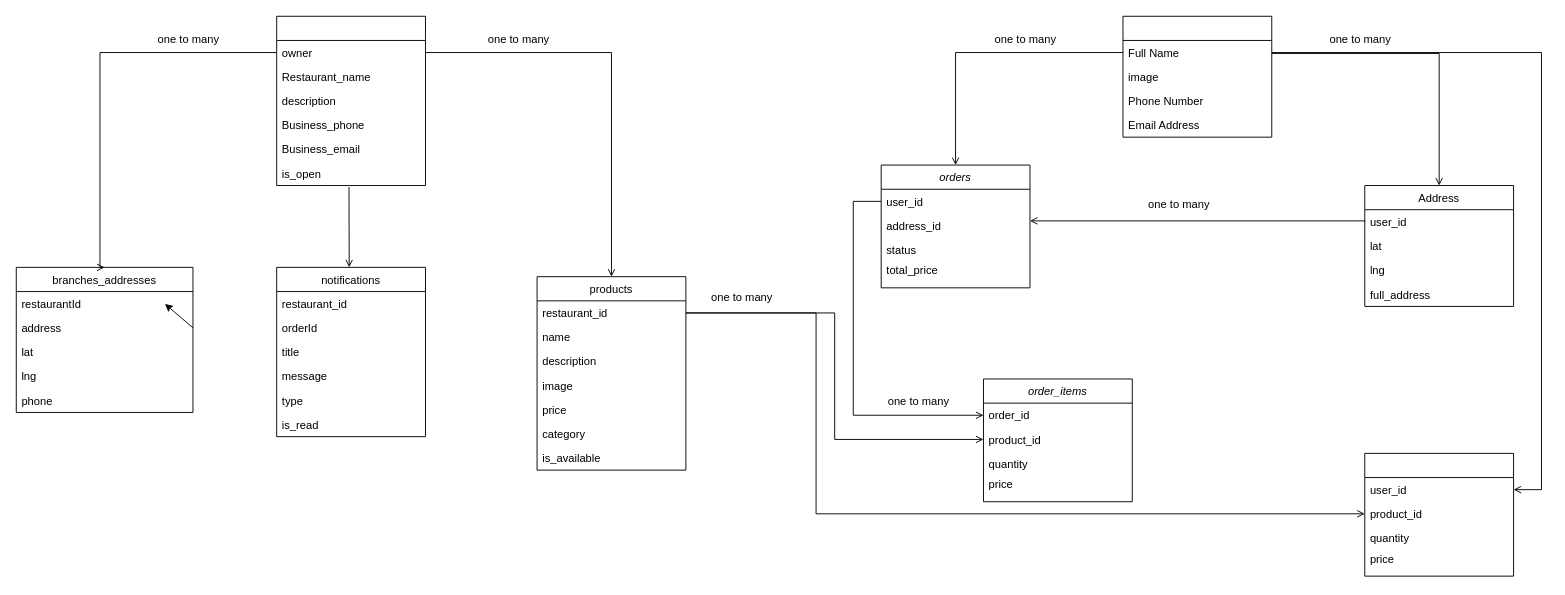
Some shapes in this 1565 by 595 pixel diagram are drawn without their labels. The shapes that lost their labels are listed below. From the top down, each one's box as (x1, y1, x2, y2) in pixels, then its label:
(1122, 15, 1272, 137): users
(276, 15, 425, 186): restaurants
(1364, 452, 1514, 576): carts
